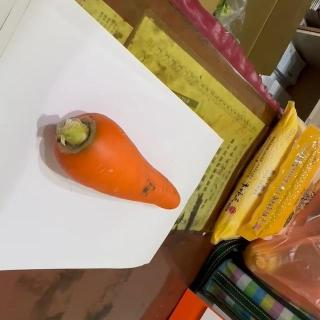carrot: (54, 112, 181, 209)
